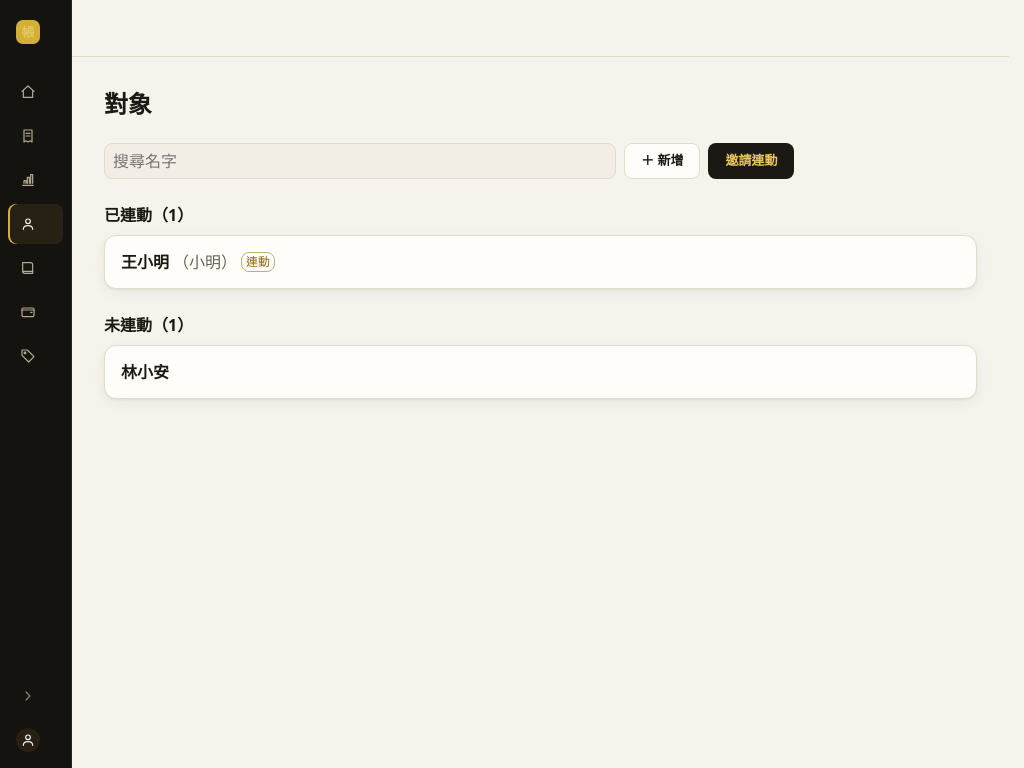
Scenario: CounterpartiesPage › opens the selected person in the profile panel without showing list balances
Click the button "王小明 （小明） 連動".
click(145, 262)  # box x1=105 y1=236 x2=976 y2=288
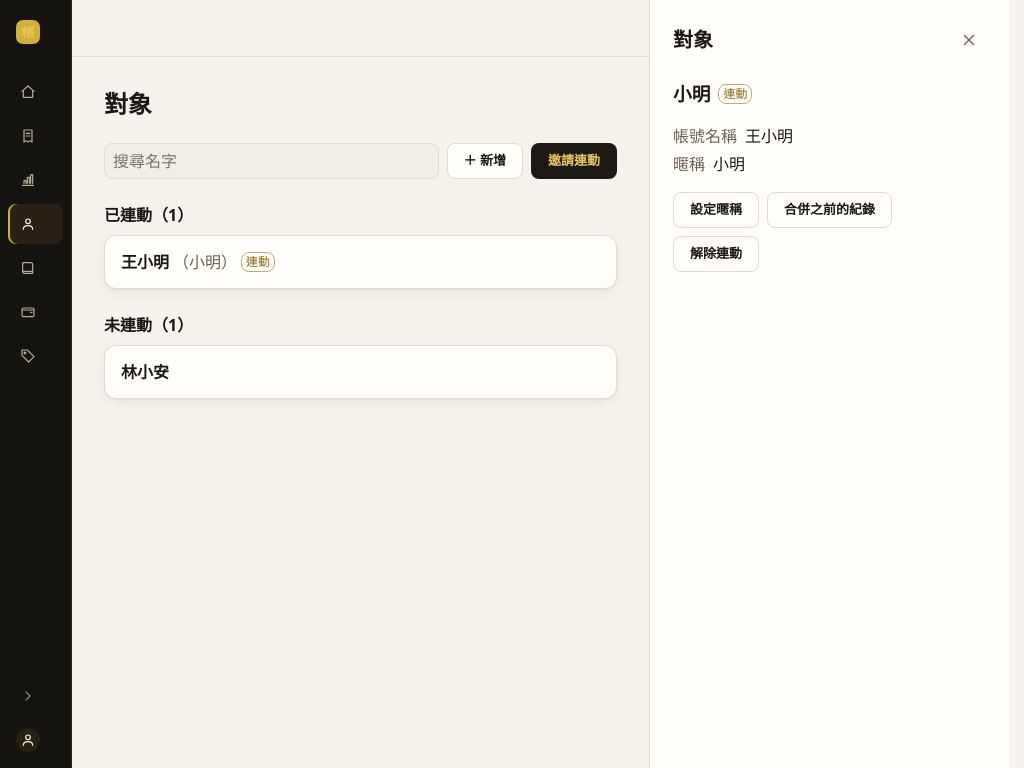
Expected: the heading "小明" is shown, x1=673 y1=80 x2=710 y2=108
Expected: the text "帳號名稱" is shown, x1=673 y1=124 x2=737 y2=148
